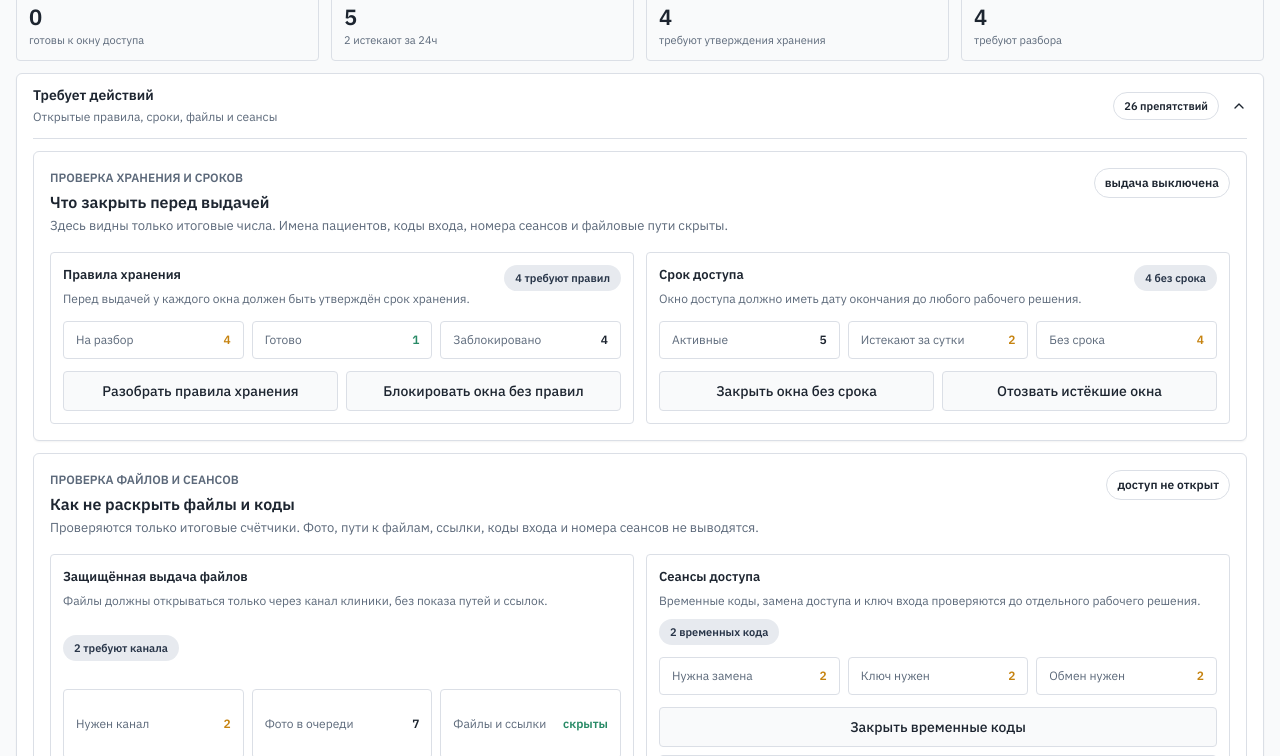
Test case: Admin clinic core pages — render & safety › AdminGovernancePage requires explicit confirmation before a destructive access operation
The image size is (1280, 756).
(page scrolled)
Click the button "Блокировать окна без правил" at (484, 391), box [346,371,621,411]
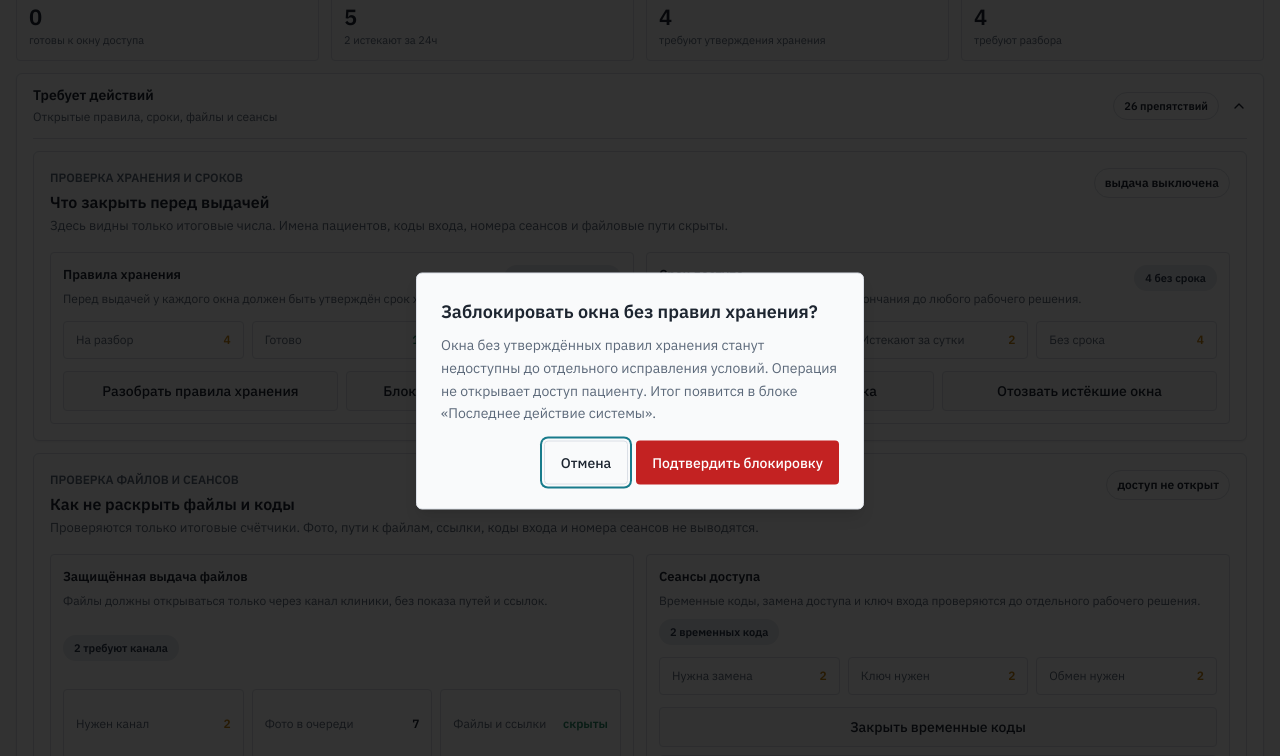
Check: the text "Учебный режим: окна без правил хранения заблокированы локально" is not shown
Check: the dialog "Заблокировать окна без правил хранения?" is shown, box [416,272,864,510]
Click the button "Отмена" at (586, 462), box [544,440,628,484]
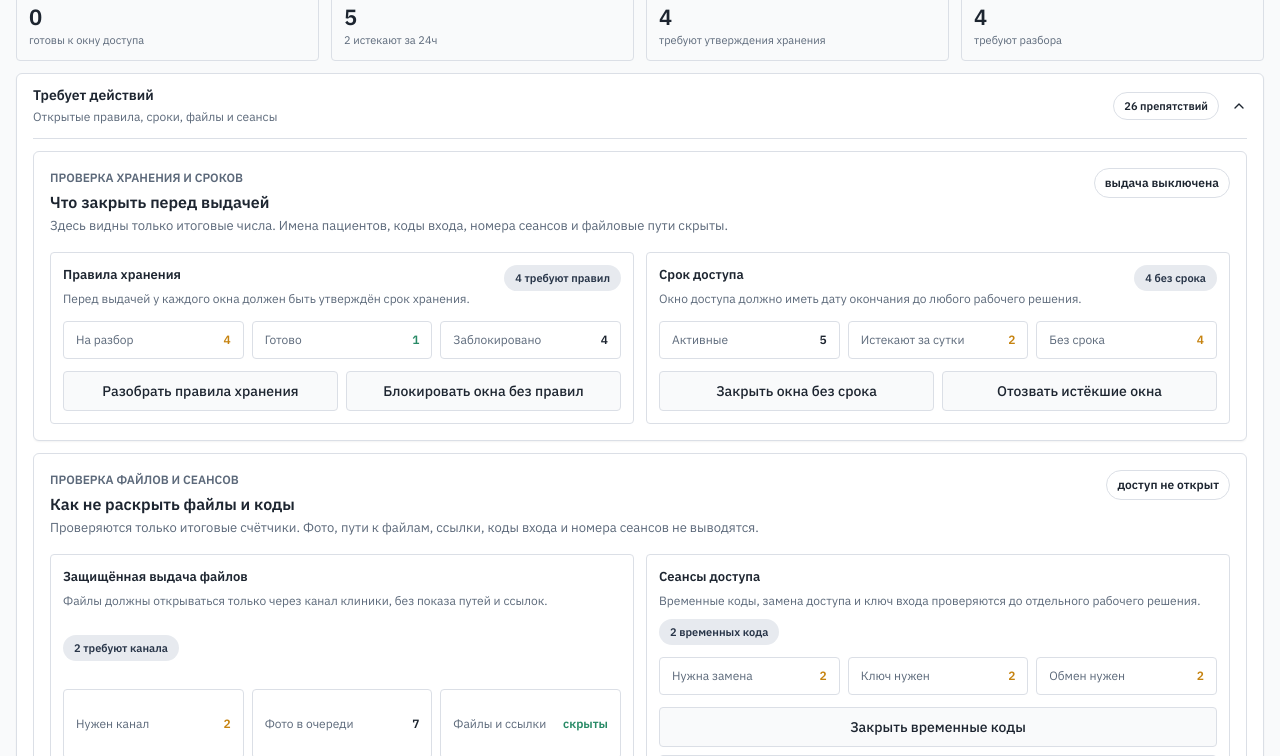
Check: the text "Учебный режим: окна без правил хранения заблокированы локально" is not shown
Check: the dialog is gone
Click the button "Блокировать окна без правил" at (484, 391), box [346,371,621,411]
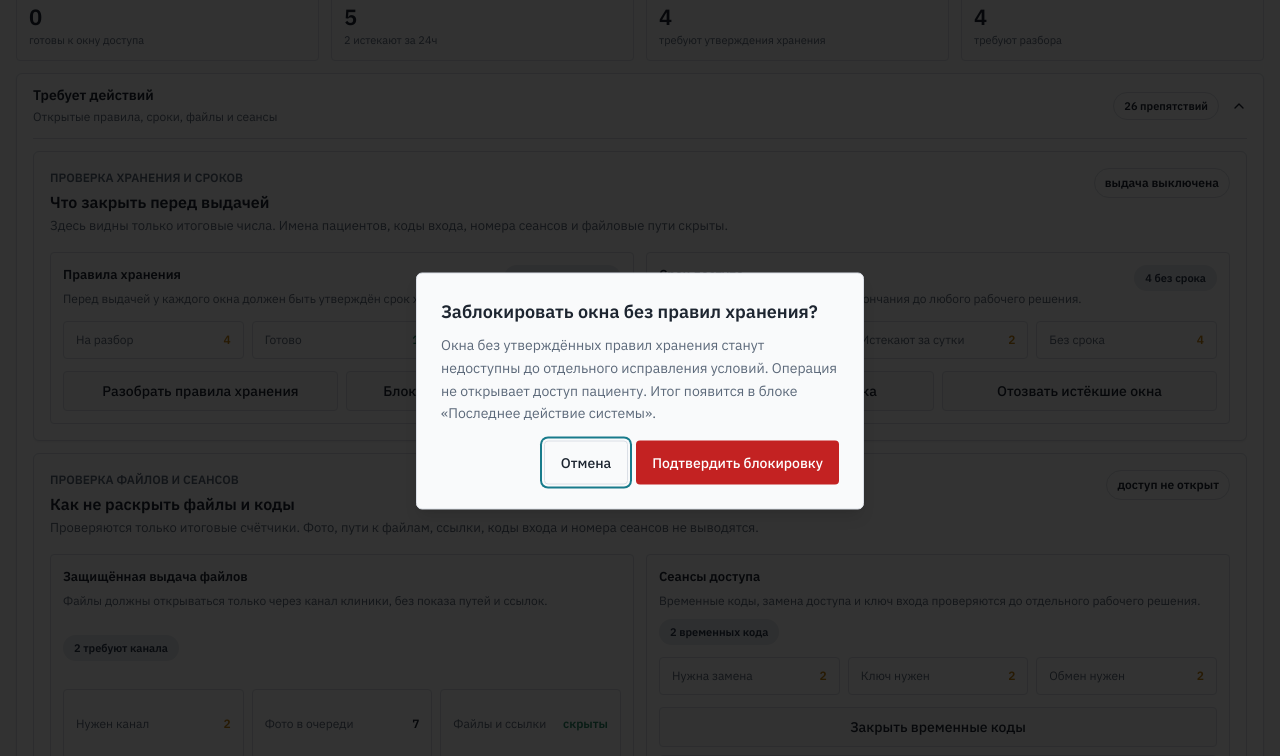
Click the button "Подтвердить блокировку" at (738, 462), box [636,440,839,484]
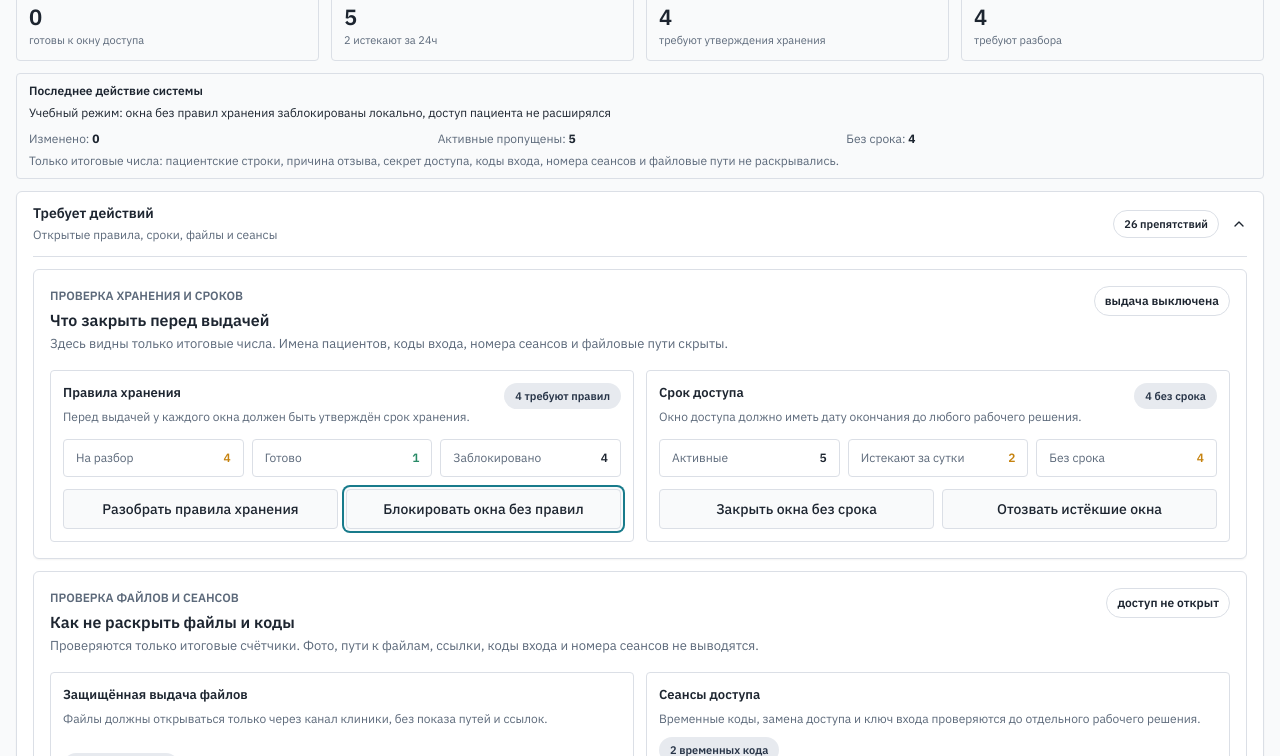
Check: the text "Учебный режим: окна без правил хранения заблокированы локально" is shown, box [29,105,611,120]
